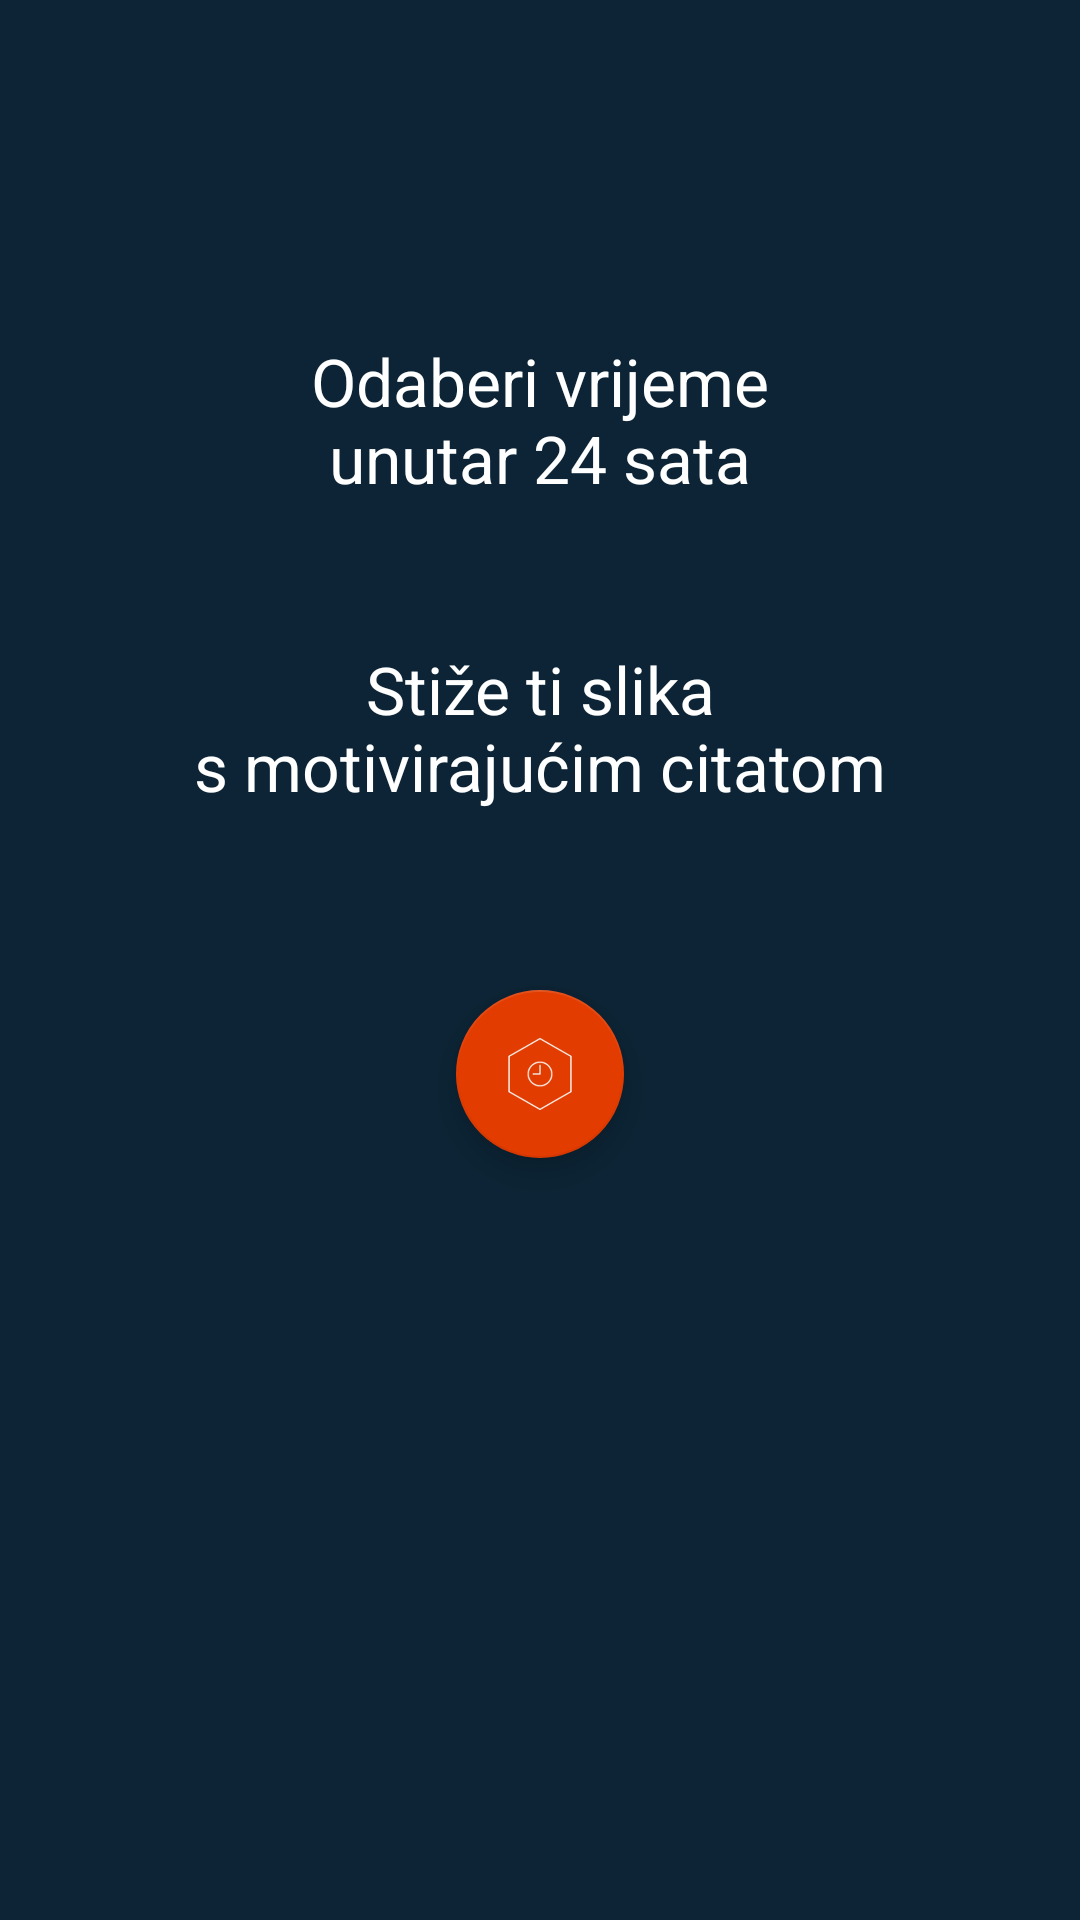

Named icons in this screenshot (1080w x 1920h) and their bounding boxes, region(x1, y1, x2, y2):
hexaclock: region(456, 990, 624, 1158)
